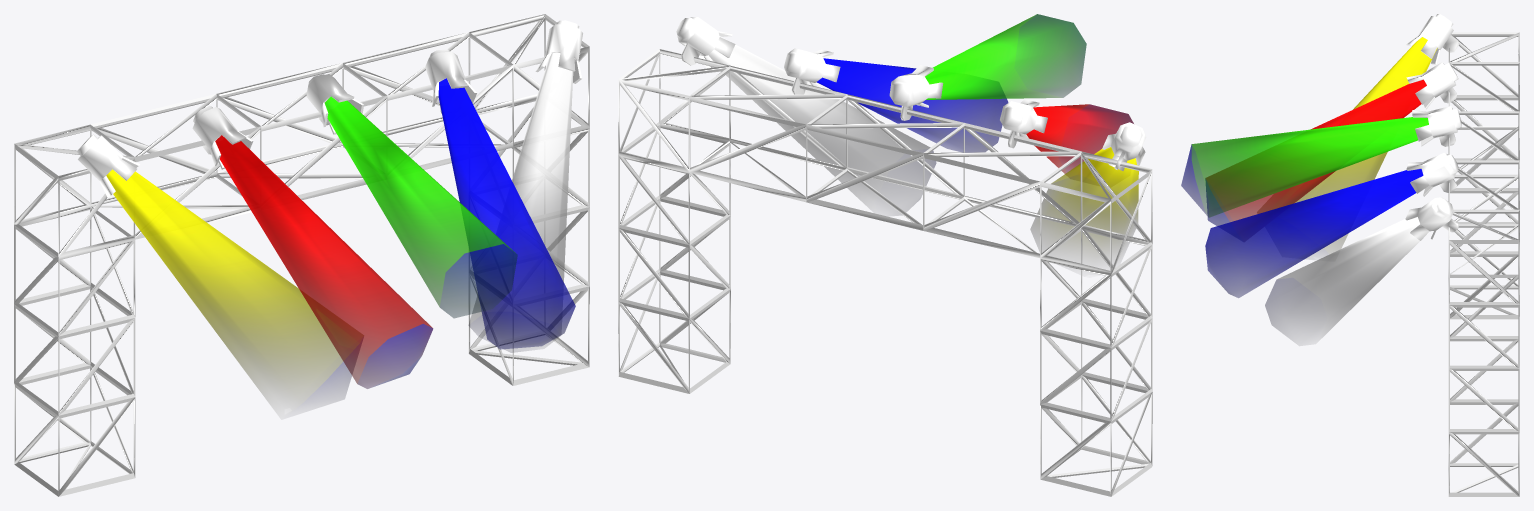
The model's file is StageTrussLightLightingOn.glb.
The picture shows the model from 3 angles, left to right: view 1: azimuth 30°, elevation 25°; view 2: azimuth 150°, elevation 25°; view 3: azimuth 270°, elevation 25°; orthographic projection. The views are drawn at different scales.
Parts seen in each view (by area): view 1: StageTrussLightLightingOn; view 2: StageTrussLightLightingOn; view 3: StageTrussLightLightingOn.
Boxes of the visible parts, box(x1,y1,x2,y2) form: StageTrussLightLightingOn: box(14, 14, 589, 496); StageTrussLightLightingOn: box(618, 14, 1152, 496); StageTrussLightLightingOn: box(1181, 14, 1519, 496).
Size of the model in its own units: 14.03 by 9.03 by 9.68.
Materials: 2 (2 with a texture image).
